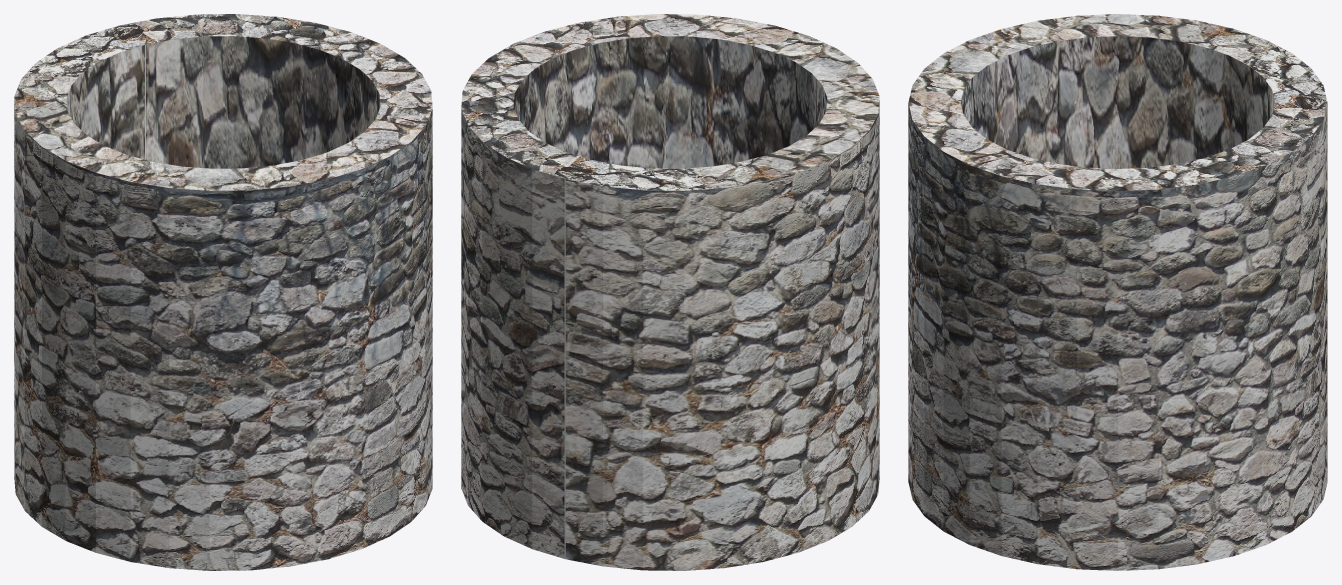
The model's file is studnia.fbx.
3 renders of one model, left to right at view 1: azimuth 30°, elevation 25°; view 2: azimuth 150°, elevation 25°; view 3: azimuth 270°, elevation 25°, orthographic.
Visible parts, largest first — view 1: Cylinder; view 2: Cylinder; view 3: Cylinder.
Boxes of the visible parts, x1,y1,x2,y2 form: Cylinder: (14,14,432,570); Cylinder: (461,14,879,570); Cylinder: (908,14,1327,570).
Size of the model in its own units: 200 by 200 by 200.
